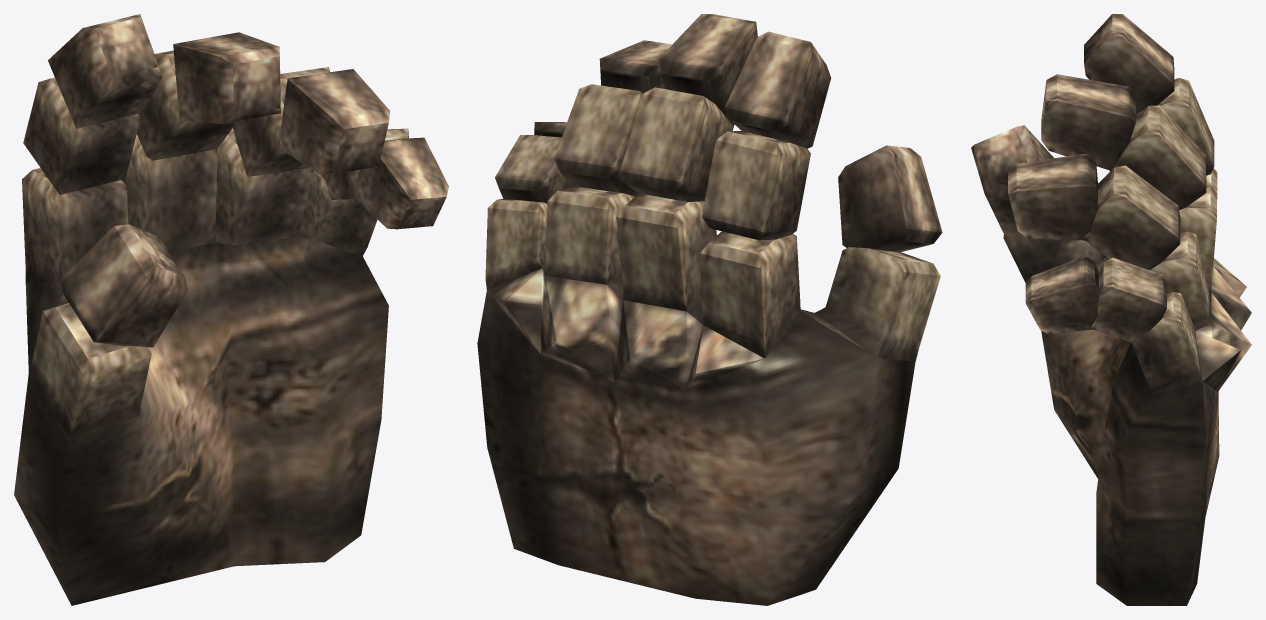
3 renders of one model, left to right at view 1: azimuth 30°, elevation 25°; view 2: azimuth 150°, elevation 25°; view 3: azimuth 270°, elevation 25°, orthographic. The views are drawn at different scales.
Parts seen in each view (by area): view 1: SMDImport; view 2: SMDImport; view 3: SMDImport.
Boxes of the visible parts, bbox=[...] form: SMDImport: bbox=[14, 14, 448, 605]; SMDImport: bbox=[477, 14, 942, 605]; SMDImport: bbox=[971, 14, 1251, 605].
Size of the model in its own units: 192 by 273 by 145.
